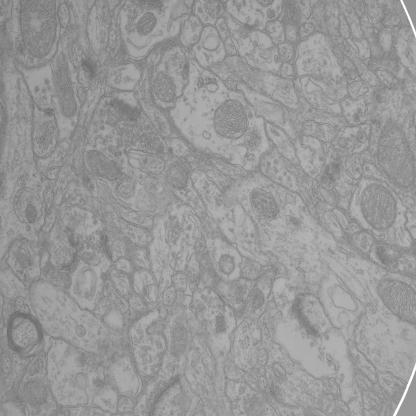mitochondria: (378, 116, 415, 188), (18, 0, 58, 60), (375, 278, 416, 328), (360, 183, 398, 234), (53, 53, 78, 121), (213, 97, 249, 143), (86, 144, 123, 185), (22, 376, 50, 410), (153, 69, 177, 104), (166, 159, 190, 192), (136, 10, 158, 40)
